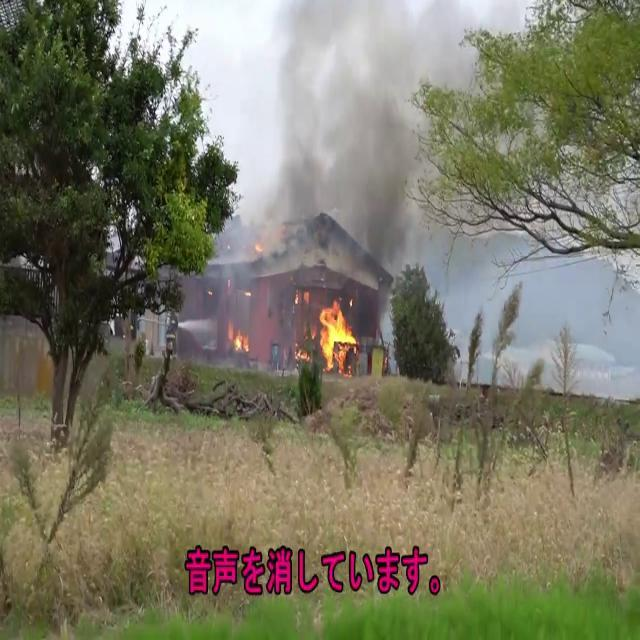Fire: (310, 292, 360, 372)
Smoke: (244, 0, 434, 264)
